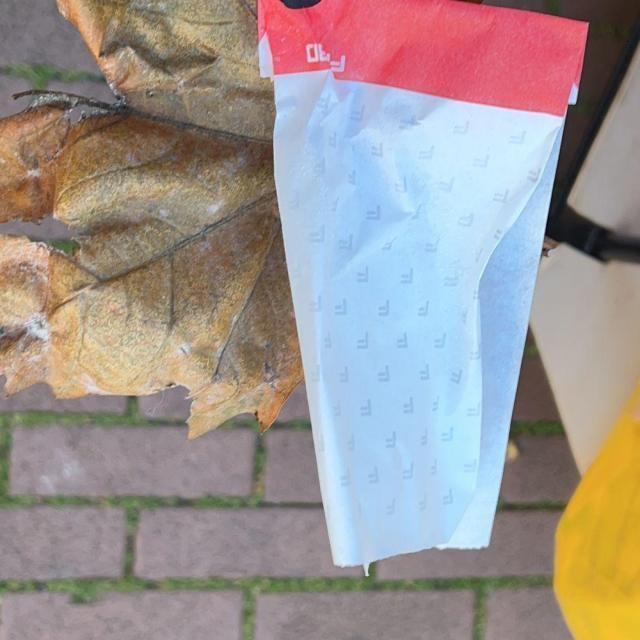Paper: (252, 0, 592, 579)
